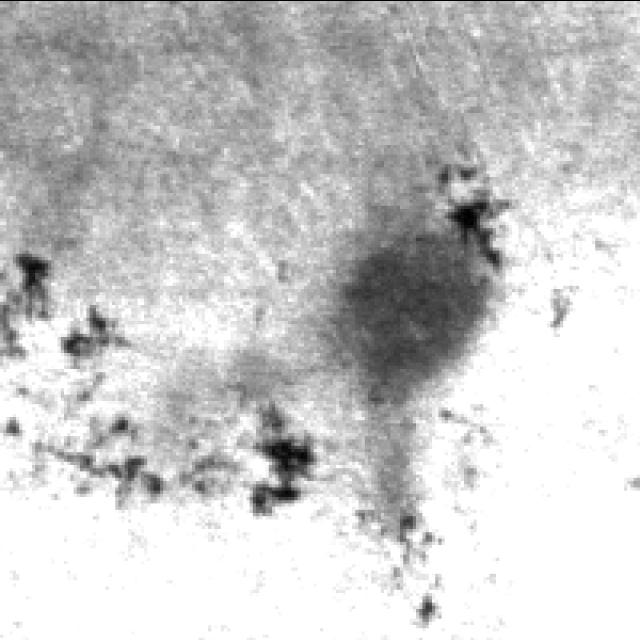patches: (314, 184, 530, 424), (37, 394, 323, 526), (0, 250, 58, 362)
